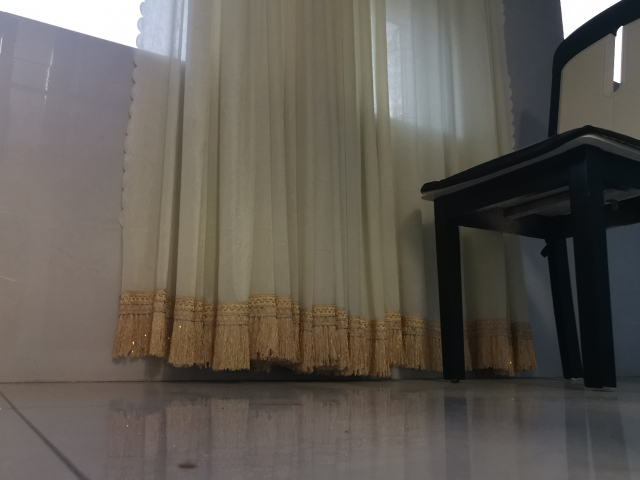curtain: (110, 1, 540, 384)
stool: (417, 1, 639, 392)
